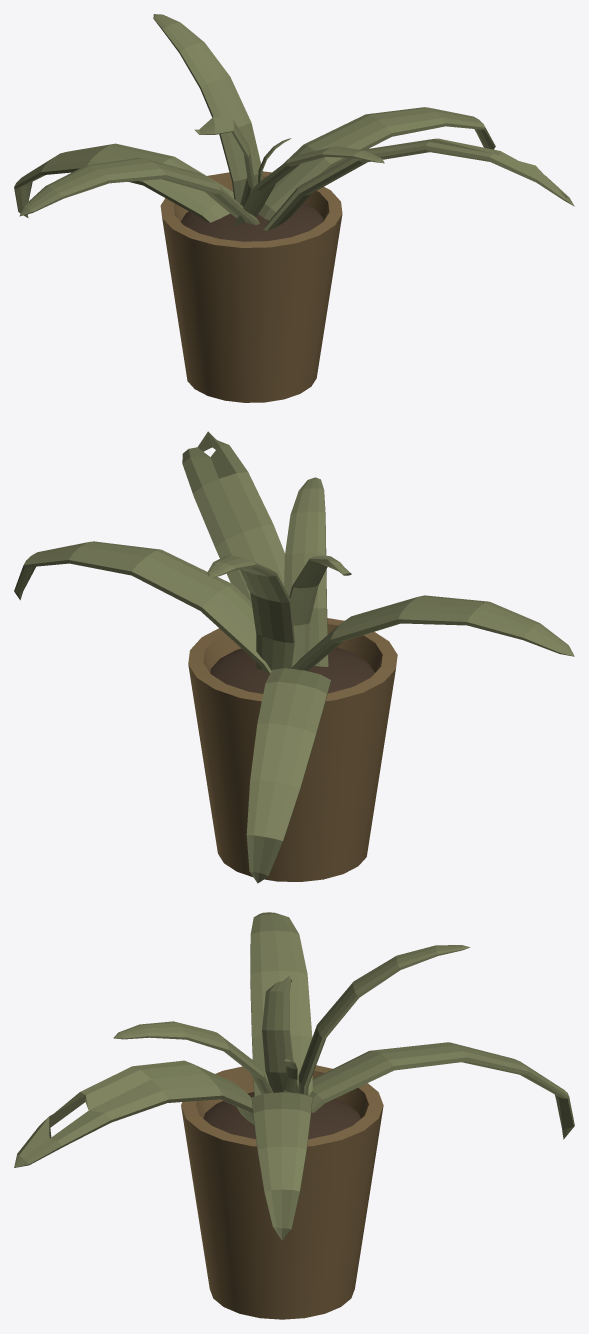
Rendered from Plant.fbx.
The picture shows the model from 3 angles, top to bottom: view 1: azimuth 30°, elevation 25°; view 2: azimuth 150°, elevation 25°; view 3: azimuth 270°, elevation 25°; orthographic projection. The views are drawn at different scales.
Parts seen in each view (by area): view 1: pCylinder1, pSphere2, pSphere4, pSphere9, pSphere3, pSphere6, pSphere1, pSphere5, pSphere7; view 2: pCylinder1, pSphere9, pSphere2, pSphere6, pSphere3, pSphere4, pSphere5, pSphere1, pSphere7; view 3: pCylinder1, pSphere6, pSphere3, pSphere2, pSphere9, pSphere4, pSphere7, pSphere1, pSphere5.
Part boxes in pixels (box(x1,y1,x2,y2)): pCylinder1: box(160, 171, 342, 402); pSphere2: box(258, 107, 495, 220); pSphere4: box(153, 14, 262, 203); pSphere9: box(14, 143, 233, 222); pSphere3: box(19, 158, 259, 225); pSphere6: box(263, 138, 574, 230); pSphere1: box(180, 203, 323, 241); pSphere5: box(233, 146, 384, 225); pSphere7: box(194, 117, 254, 206); pCylinder1: box(188, 618, 397, 881); pSphere9: box(246, 668, 330, 883); pSphere2: box(14, 541, 271, 673); pSphere6: box(182, 431, 284, 601); pSphere3: box(291, 595, 574, 670); pSphere4: box(207, 555, 294, 670); pSphere5: box(284, 477, 328, 666); pSphere1: box(210, 647, 374, 693); pSphere7: box(289, 555, 351, 666); pCylinder1: box(181, 1065, 383, 1319); pSphere6: box(14, 1060, 254, 1167); pSphere3: box(250, 912, 312, 1096); pSphere2: box(252, 1092, 312, 1240); pSphere9: box(309, 1042, 574, 1139); pSphere4: box(298, 945, 470, 1095); pSphere7: box(262, 976, 298, 1093); pSphere1: box(203, 1092, 360, 1139); pSphere5: box(113, 1021, 273, 1093).
Bounding box in the file's own units: 2.35 × 1.42 × 2.15.
